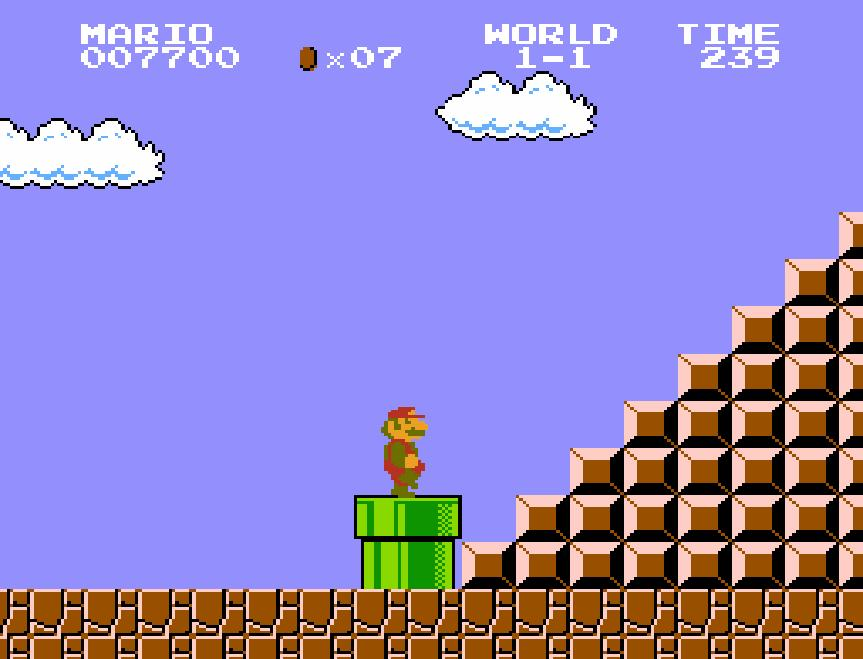big_mario: (376, 402, 434, 500)
